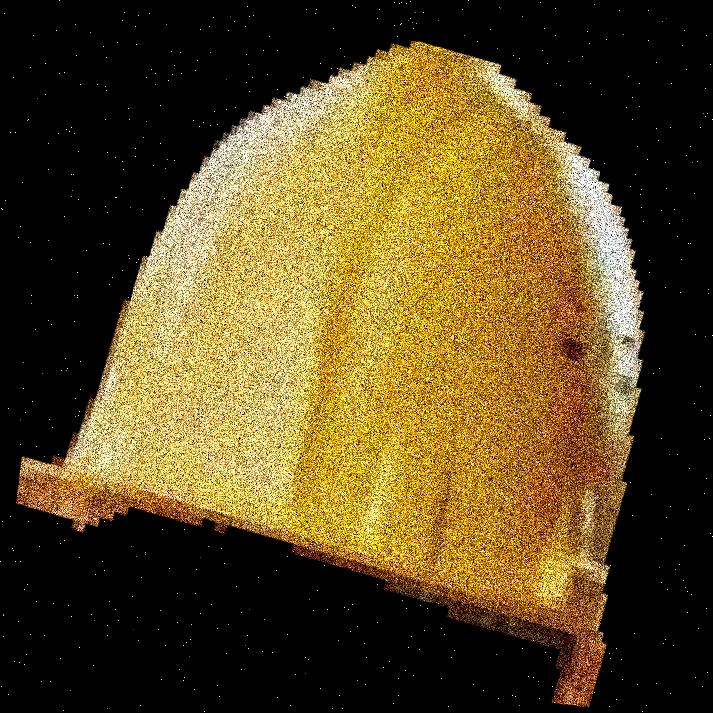Capacete: (243, 0, 527, 712)
